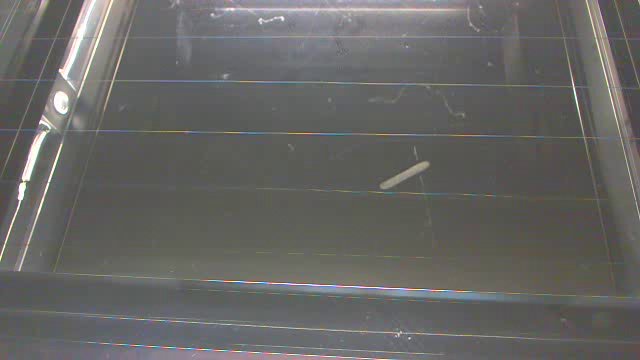alpha: (378, 158, 433, 194), (220, 70, 228, 78)
